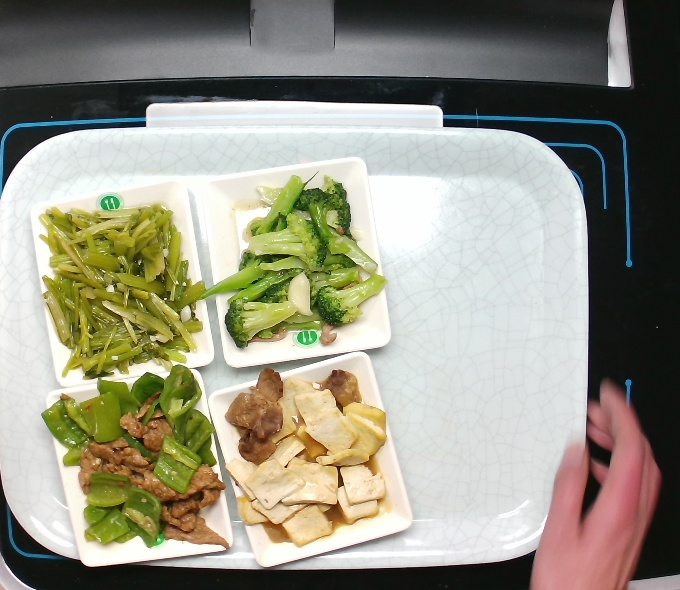wcq-DouFuRouPian: (219, 367, 399, 544)
wcq-QinCai: (37, 206, 211, 372)
wcq-QingJiaoChaoRou: (39, 362, 229, 555)
wcq-XiLanHua: (213, 178, 381, 354)
